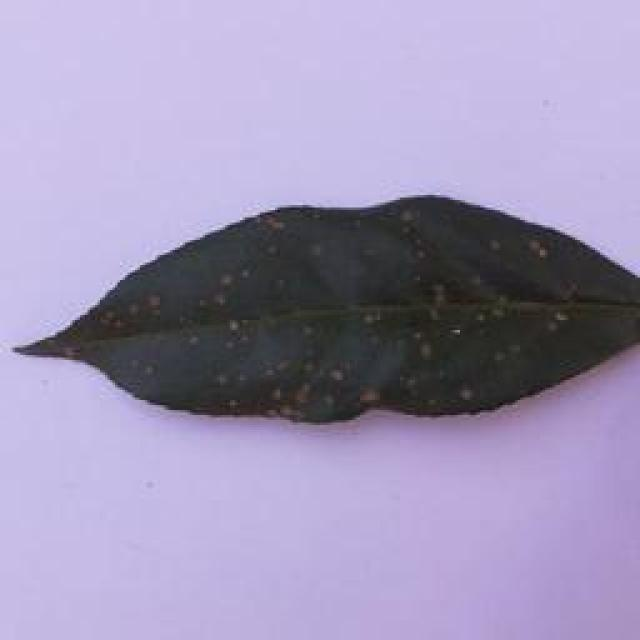Algal Leaf Spot: (22, 187, 640, 433)
